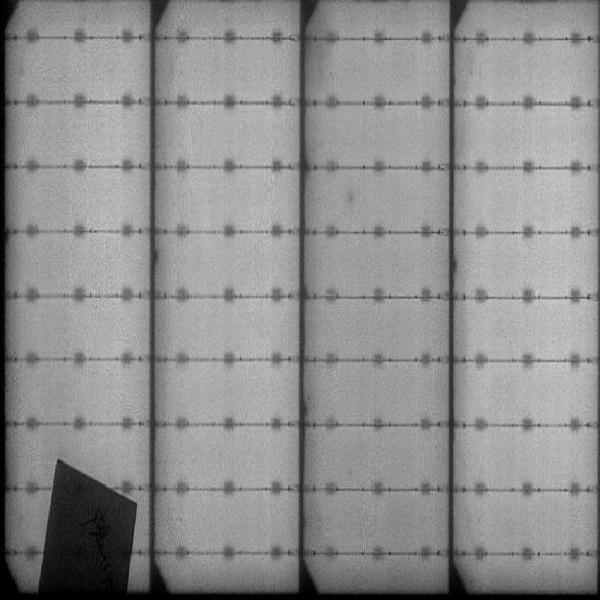broken: (33, 458, 140, 599)
